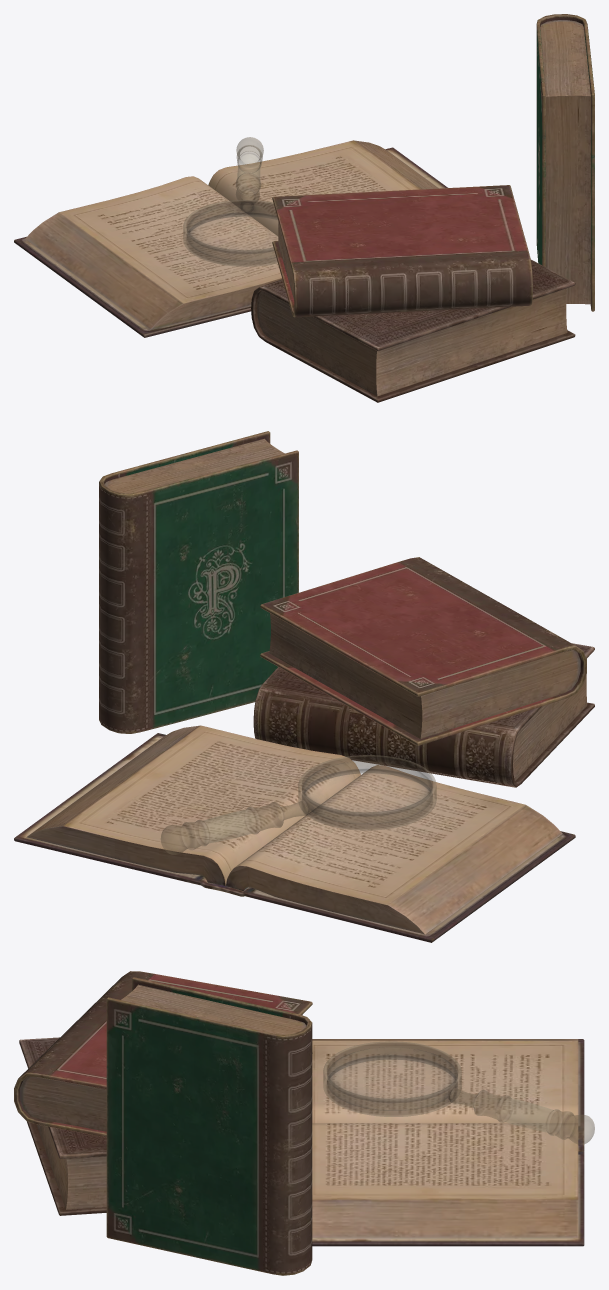
File: books_with_magnifier.glb
3 views of the same model, one above another, from view 1: azimuth 30°, elevation 25°; view 2: azimuth 150°, elevation 25°; view 3: azimuth 270°, elevation 25° (orthographic). The views are drawn at different scales.
Parts seen in each view (by area): view 1: Open_book_Open_book_Mat_0, Book_3_Book_3_Mat_0, Book_1_Book_1_Mat_0, Book_2_Book_2_Mat_0, Magnifier_Magnifier_0; view 2: Open_book_Open_book_Mat_0, Book_2_Book_2_Mat_0, Book_3_Book_3_Mat_0, Book_1_Book_1_Mat_0, Magnifier_Magnifier_0; view 3: Open_book_Open_book_Mat_0, Book_2_Book_2_Mat_0, Book_3_Book_3_Mat_0, Magnifier_Magnifier_0, Book_1_Book_1_Mat_0.
Part boxes in pixels (bbox=[...]): Open_book_Open_book_Mat_0: bbox=[14, 140, 447, 337]; Book_3_Book_3_Mat_0: bbox=[272, 185, 532, 317]; Book_1_Book_1_Mat_0: bbox=[251, 259, 575, 402]; Book_2_Book_2_Mat_0: bbox=[536, 14, 594, 311]; Magnifier_Magnifier_0: bbox=[183, 137, 277, 266]; Open_book_Open_book_Mat_0: bbox=[14, 725, 575, 942]; Book_2_Book_2_Mat_0: bbox=[99, 431, 298, 733]; Book_3_Book_3_Mat_0: bbox=[260, 557, 586, 745]; Book_1_Book_1_Mat_0: bbox=[253, 643, 594, 787]; Magnifier_Magnifier_0: bbox=[161, 755, 436, 854]; Open_book_Open_book_Mat_0: bbox=[312, 1039, 584, 1246]; Book_2_Book_2_Mat_0: bbox=[106, 977, 312, 1275]; Book_3_Book_3_Mat_0: bbox=[14, 971, 312, 1137]; Magnifier_Magnifier_0: bbox=[323, 1041, 594, 1144]; Book_1_Book_1_Mat_0: bbox=[19, 1037, 106, 1215].
Size of the model in its own units: 0.4027 by 0.1928 by 0.4216.
Materials: 5 (5 with a texture image).
